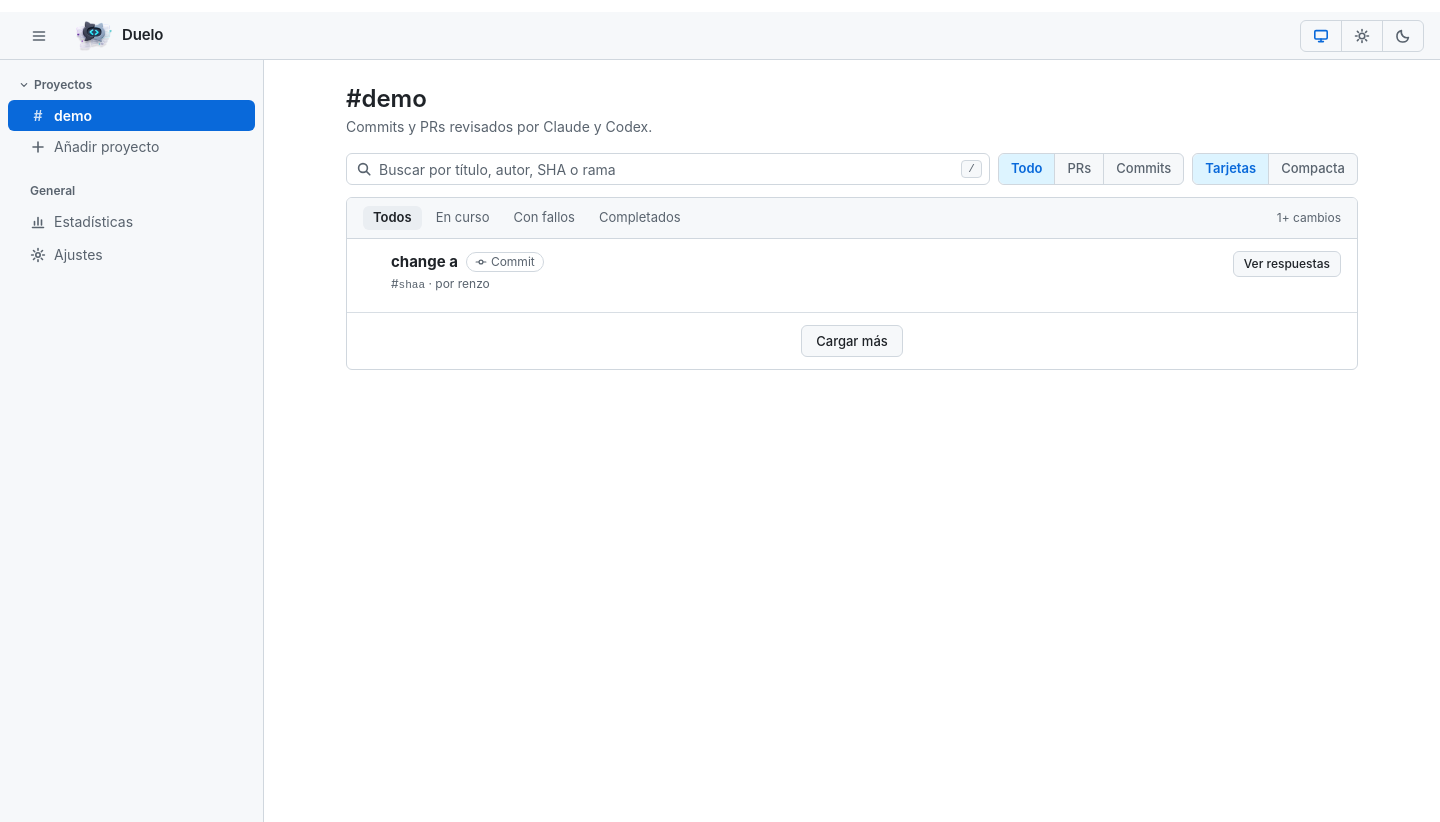
Test: load more › restarts the list and the cursor when the kind filter changes
The width and height of the screenshot is (1440, 822).
Expected: the text "change a" is shown, x1=391 y1=252 x2=458 y2=270
Step 1. Click the button "PRs" → coordinates (1079, 169), box x1=1054 y1=154 x2=1103 y2=184
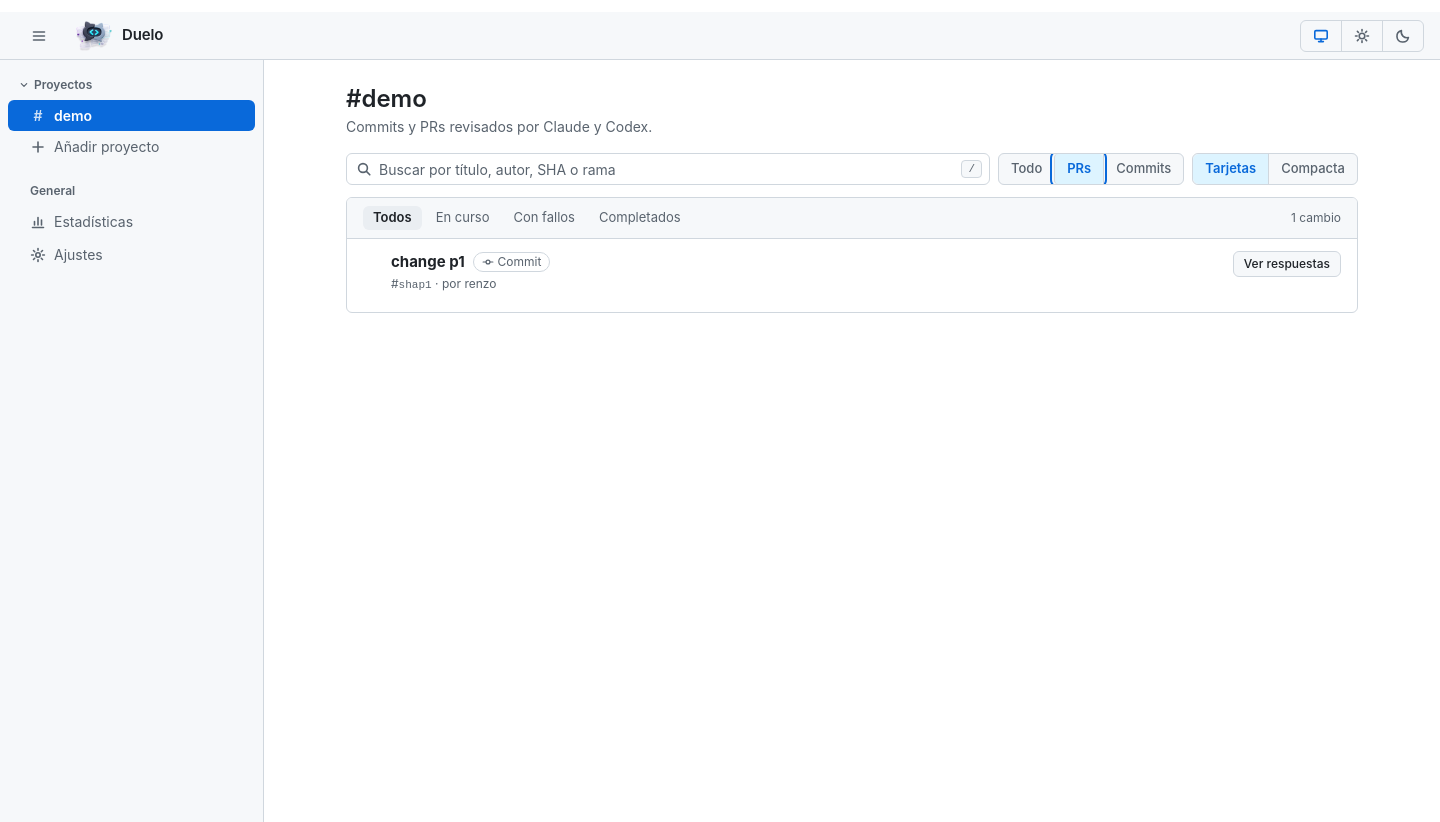
Expected: the text "change p1" is shown, x1=391 y1=252 x2=465 y2=270
Expected: the link "change a" is gone
Expected: the button "Cargar más" is gone
